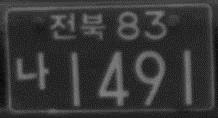1: (68, 50, 83, 109), (181, 47, 194, 108)
3: (144, 9, 167, 40)
4: (96, 49, 129, 109)
8: (116, 9, 141, 42)
9: (132, 47, 164, 105)
나: (13, 52, 48, 91)
전북_O: (50, 11, 106, 42)
